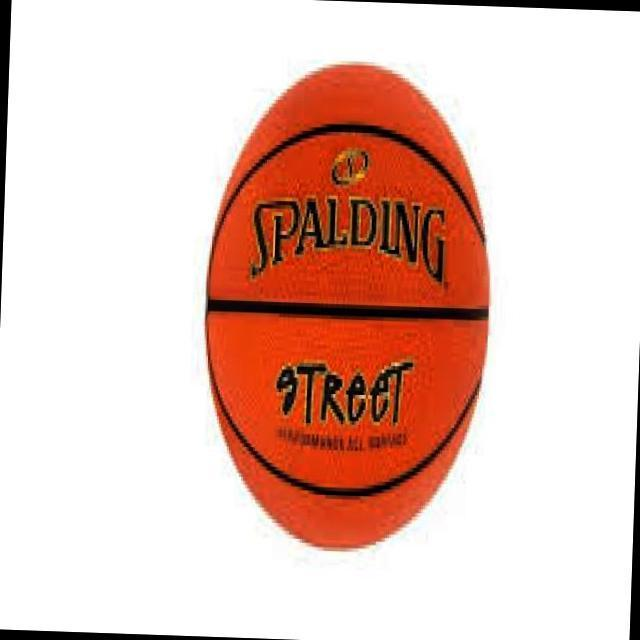ball: (198, 59, 495, 553)
